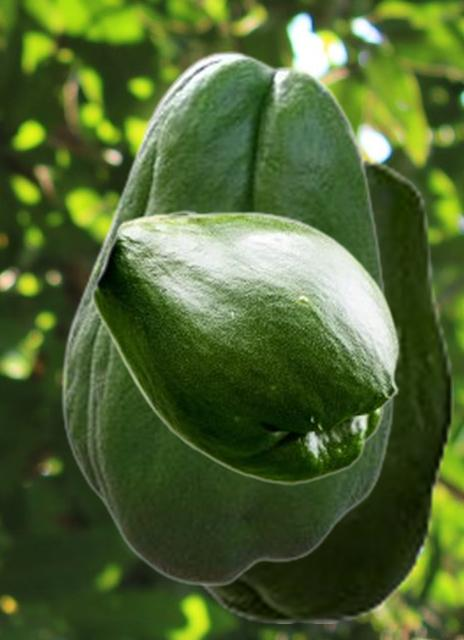sayote: (61, 51, 394, 586), (192, 157, 453, 622), (91, 210, 399, 484)
